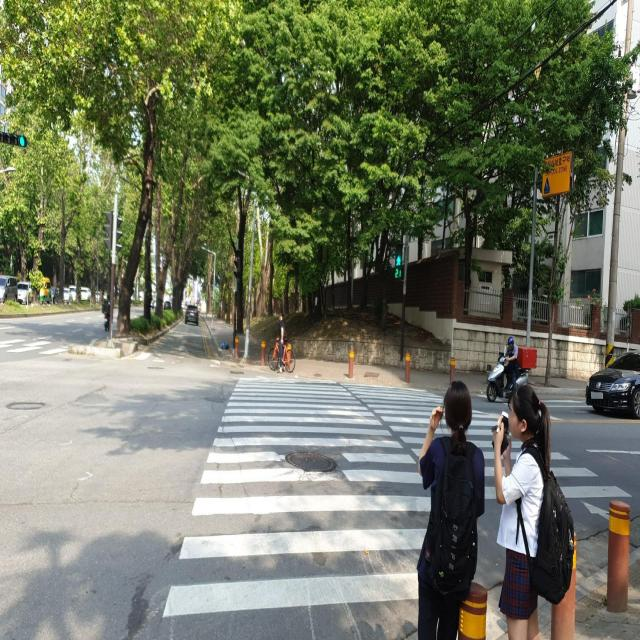초록불: (393, 236, 404, 283)
횡단보도: (160, 374, 632, 618), (0, 335, 86, 358)
